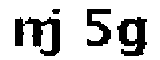5: (83, 4, 113, 48)
g: (118, 13, 150, 59)
j: (41, 4, 66, 59), (12, 18, 56, 48)
